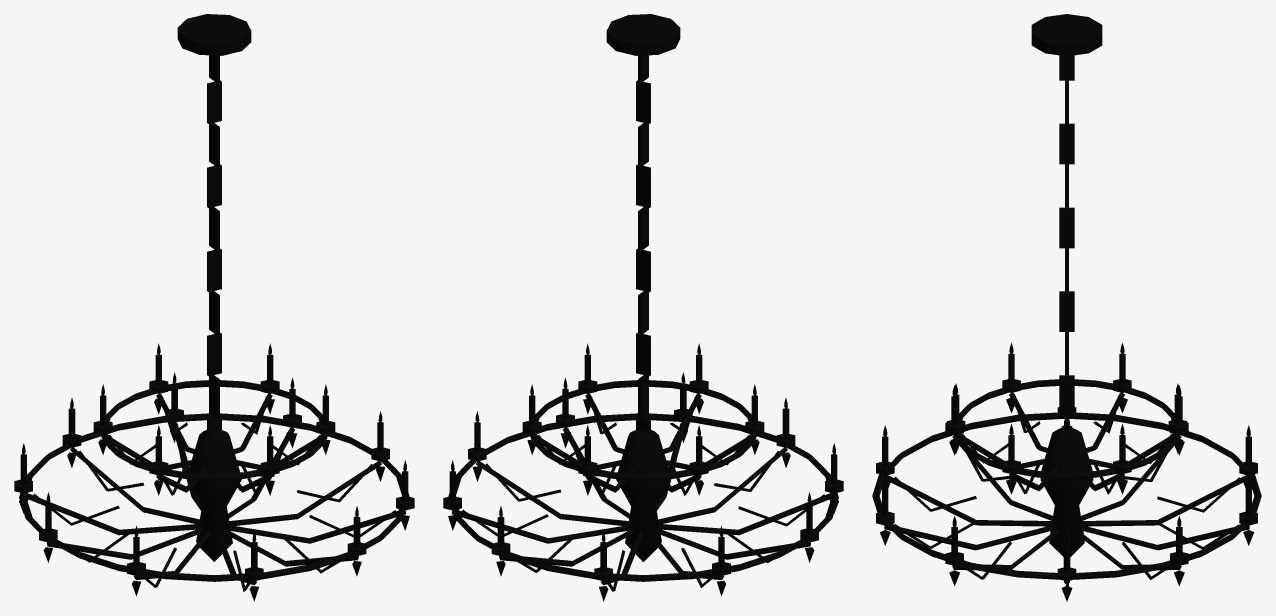
The model's file is SM_chandelier_grand.fbx.
3 views of the same model, side by side, from view 1: azimuth 30°, elevation 25°; view 2: azimuth 150°, elevation 25°; view 3: azimuth 270°, elevation 25° (orthographic).
Parts seen in each view (by area): view 1: chandelier_grand_body, chandelier_grand; view 2: chandelier_grand_body, chandelier_grand; view 3: chandelier_grand_body, chandelier_grand.
Part boxes in pixels (bbox=[...]): chandelier_grand_body: bbox=[14, 55, 414, 601]; chandelier_grand: bbox=[177, 14, 251, 55]; chandelier_grand_body: bbox=[443, 55, 843, 601]; chandelier_grand: bbox=[606, 14, 680, 55]; chandelier_grand_body: bbox=[872, 55, 1261, 601]; chandelier_grand: bbox=[1031, 14, 1102, 56].
Size of the model in its own units: 1.31 by 1.9 by 1.26.
